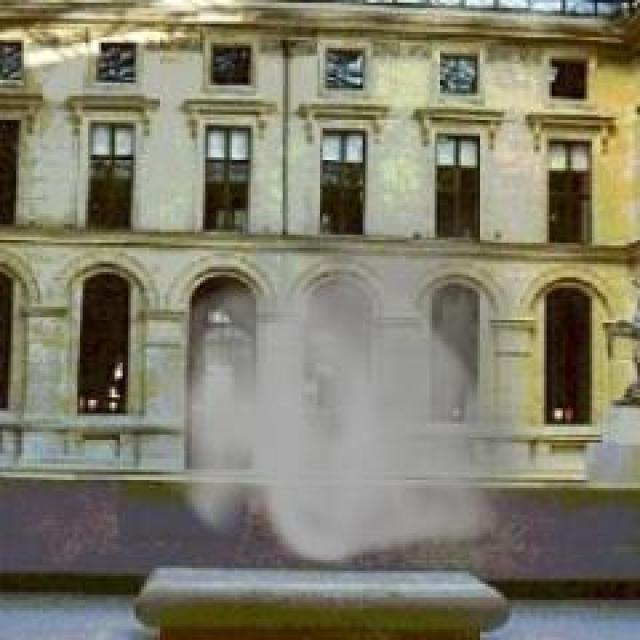Smoke: (132, 260, 534, 560)
